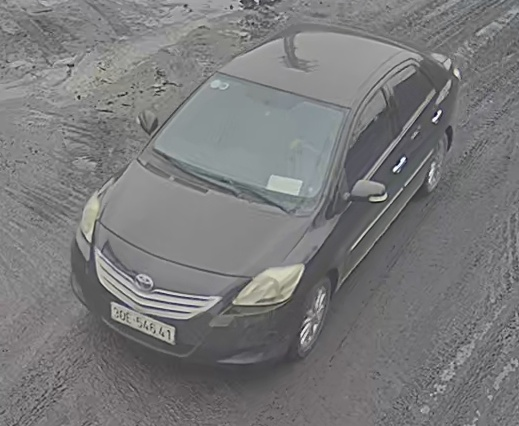vehicle plate: (104, 298, 176, 353)
